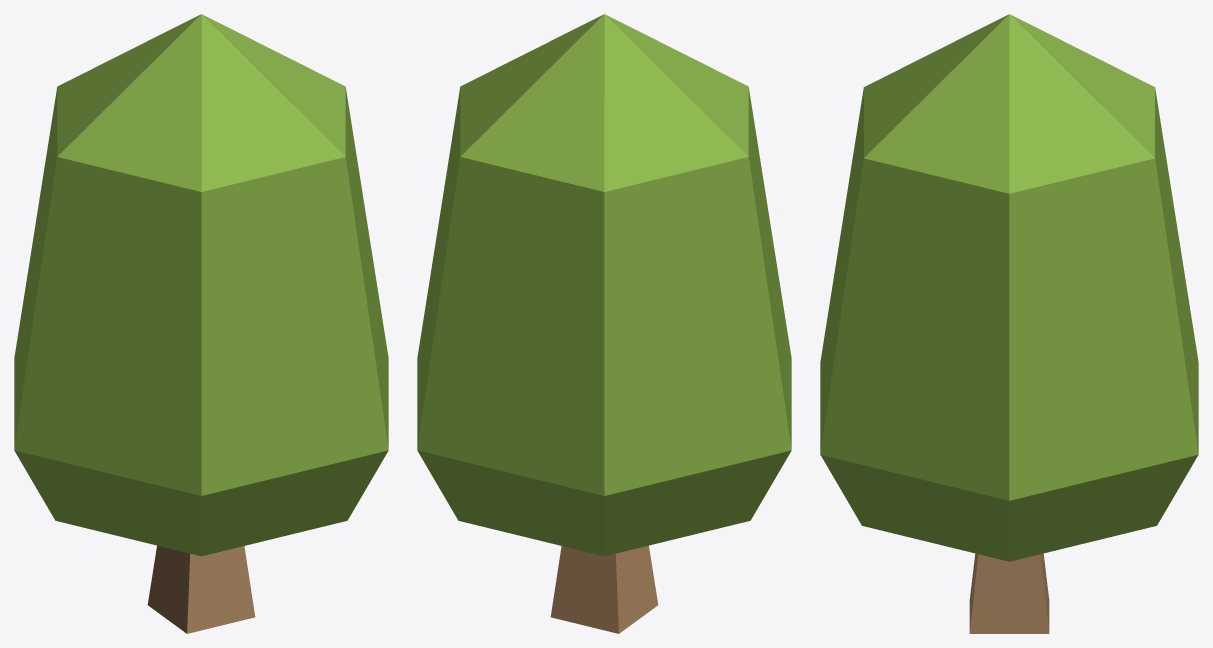
File: roadTile_020.fbx
The picture shows the model from 3 angles, left to right: view 1: azimuth 30°, elevation 25°; view 2: azimuth 150°, elevation 25°; view 3: azimuth 270°, elevation 25°; orthographic projection.
Parts seen in each view (by area): view 1: roadTile_020; view 2: roadTile_020; view 3: roadTile_020.
Boxes of the visible parts, x1,y1,x2,y2 form: roadTile_020: [14, 14, 388, 633]; roadTile_020: [417, 14, 791, 633]; roadTile_020: [820, 14, 1198, 633].
Size of the model in its own units: 67.77 by 103 by 58.69.
